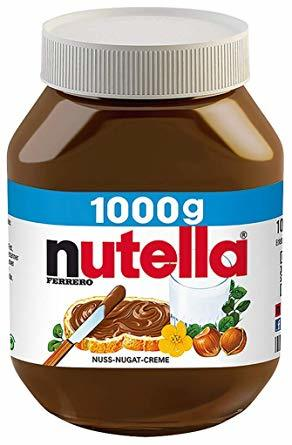nutella: (5, 6, 283, 438)
